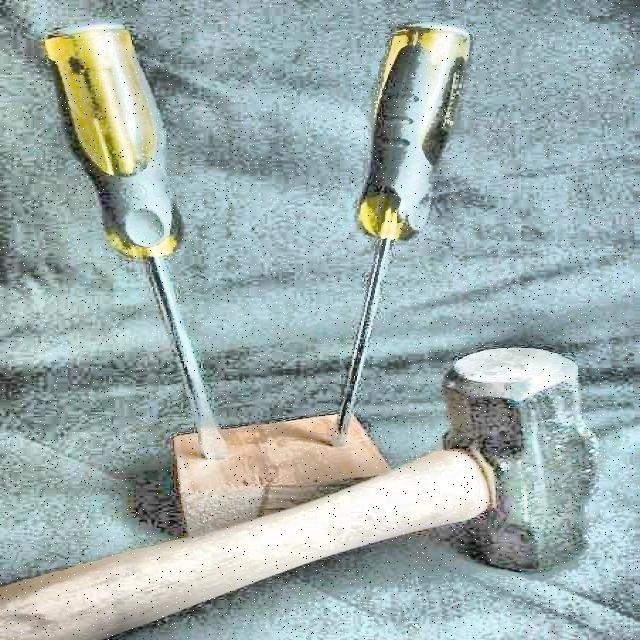hammer: (0, 345, 612, 639)
